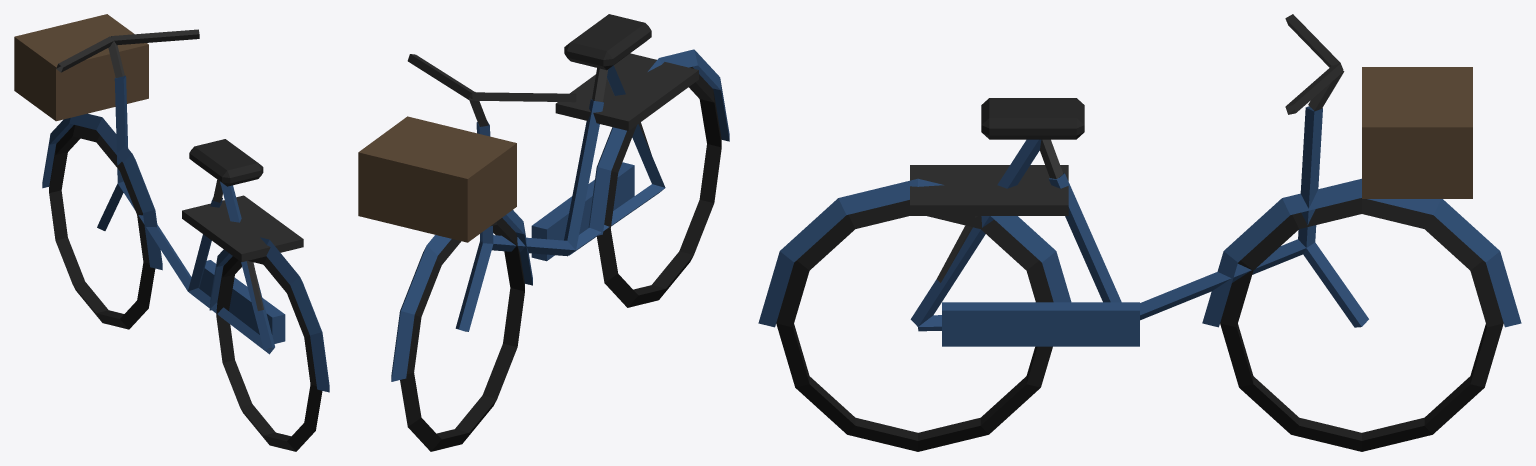
The model's file is rack-bike.glb.
The picture shows the model from 3 angles, left to right: view 1: azimuth 30°, elevation 25°; view 2: azimuth 150°, elevation 25°; view 3: azimuth 270°, elevation 25°; orthographic projection. The views are drawn at different scales.
Parts seen in each view (by area): view 1: Cube.001, Torus.002, Torus, Cube.003, Torus.003, Torus.001, Cube, Cube.002, Cylinder, Cylinder.004, Cylinder.002, Cylinder.009 (+6 smaller); view 2: Cube.001, Torus.002, Torus, Cube.003, Torus.003, Torus.001, Cube, Cube.002, Cylinder.003, Cylinder.005, Cylinder.002, Cylinder (+4 smaller); view 3: Cube.001, Torus.002, Torus, Cube.002, Cube.003, Torus.003, Torus.001, Cube, Cylinder, Cylinder.002, Cylinder.003, Cylinder.004 (+3 smaller).
Boxes of the visible parts, box(x1,y1,x2,y2) form: Cube.001: box(14, 14, 148, 121); Torus.002: box(49, 125, 155, 329); Torus: box(216, 256, 322, 451); Cube.003: box(182, 195, 303, 262); Torus.003: box(42, 113, 162, 270); Torus.001: box(209, 237, 329, 392); Cube: box(189, 139, 263, 186); Cube.002: box(199, 260, 285, 343); Cylinder: box(220, 181, 274, 349); Cylinder.004: box(114, 75, 128, 183); Cylinder.002: box(118, 181, 191, 291); Cylinder.009: box(111, 29, 199, 45); Cube.001: box(358, 116, 516, 242); Torus.002: box(400, 218, 524, 451); Torus: box(597, 67, 721, 307); Cube.003: box(555, 53, 698, 130); Torus.003: box(391, 210, 532, 381); Torus.001: box(588, 49, 729, 235); Cube: box(564, 14, 651, 70); Cube.002: box(531, 162, 634, 261); Cylinder.003: box(564, 99, 603, 249); Cylinder.005: box(455, 241, 493, 331); Cylinder.002: box(492, 235, 575, 256); Cylinder: box(607, 65, 665, 187); Cube.001: box(1362, 67, 1472, 198); Torus.002: box(1220, 198, 1503, 451); Torus: box(776, 200, 1053, 451); Cube.002: box(942, 302, 1139, 346); Cube.003: box(910, 165, 1068, 215); Torus.003: box(1202, 178, 1521, 327); Torus.001: box(758, 178, 1071, 327); Cube: box(981, 98, 1084, 139); Cylinder: box(910, 139, 1041, 326); Cylinder.002: box(1140, 239, 1306, 320); Cylinder.003: box(1049, 173, 1121, 302); Cylinder.004: box(1298, 106, 1322, 247).
Bounding box in the file's own units: 0.5523 × 1.09 × 1.93.
